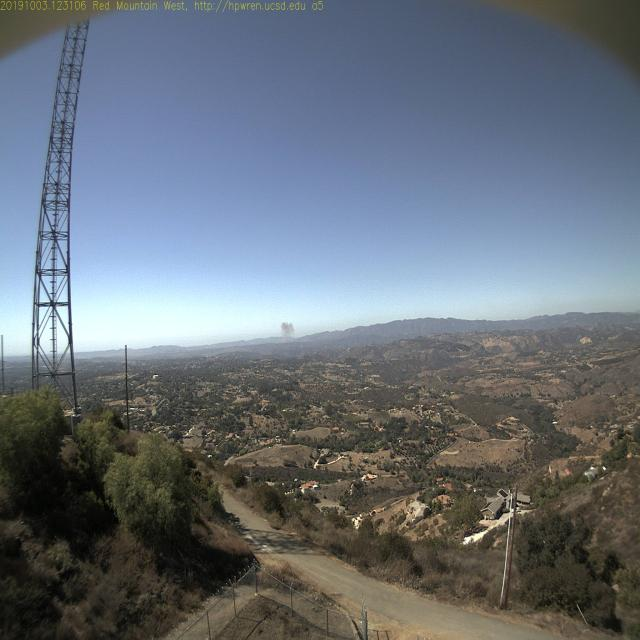smoke: (276, 314, 296, 349), (275, 314, 296, 346)
